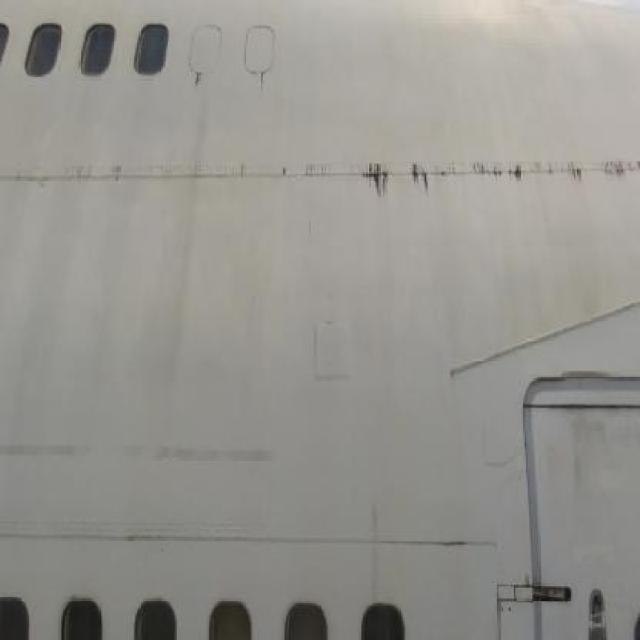Rust: (355, 148, 640, 202), (191, 72, 204, 96), (259, 71, 266, 89)
Scartch: (0, 423, 292, 482), (572, 413, 639, 485)
